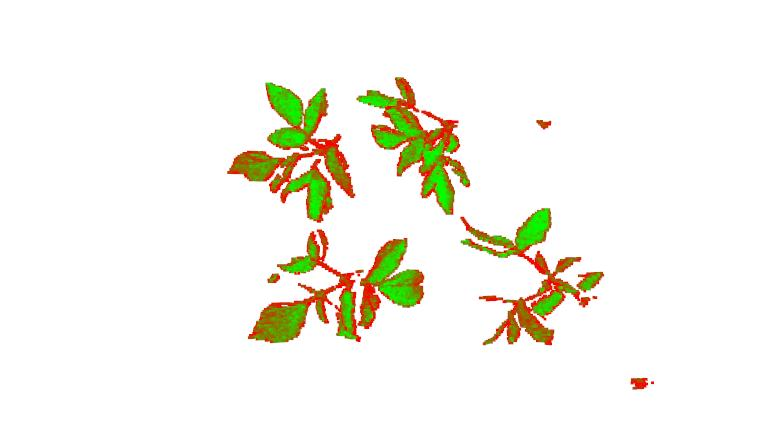mungbean: (241, 229, 429, 353), (459, 200, 605, 349), (222, 78, 362, 226), (359, 70, 475, 219)
